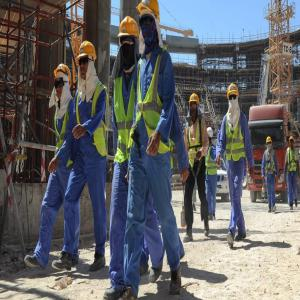white: (208, 127, 214, 144)
yellow: (139, 2, 162, 45), (119, 18, 140, 62), (54, 65, 73, 101), (80, 42, 95, 77), (189, 94, 201, 117), (228, 84, 239, 109), (267, 136, 273, 150), (290, 137, 295, 150)
